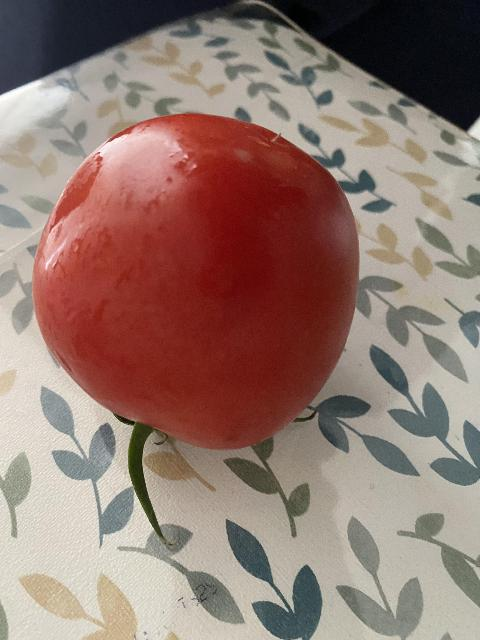Organik: (49, 114, 360, 444), (116, 422, 197, 554)
